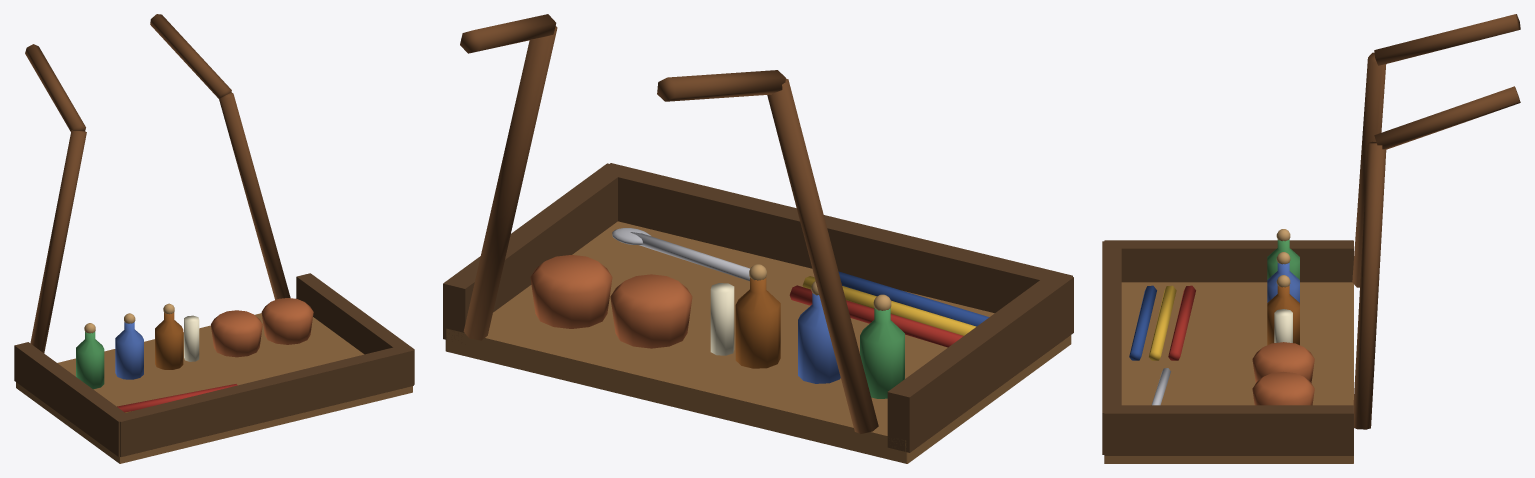
File: bauchladen.glb
3 views of the same model, side by side, from view 1: azimuth 30°, elevation 25°; view 2: azimuth 150°, elevation 25°; view 3: azimuth 270°, elevation 25° (orthographic). The views are drawn at different scales.
Parts seen in each view (by area): view 1: Cube; view 2: Cube; view 3: Cube.
Boxes of the visible parts, left/top/right/bottom form: Cube: left=14, top=14, right=414, bottom=463; Cube: left=443, top=14, right=1073, bottom=463; Cube: left=1102, top=14, right=1520, bottom=463.
Bounding box in the file's own units: 0.525 × 0.4638 × 0.5364.
